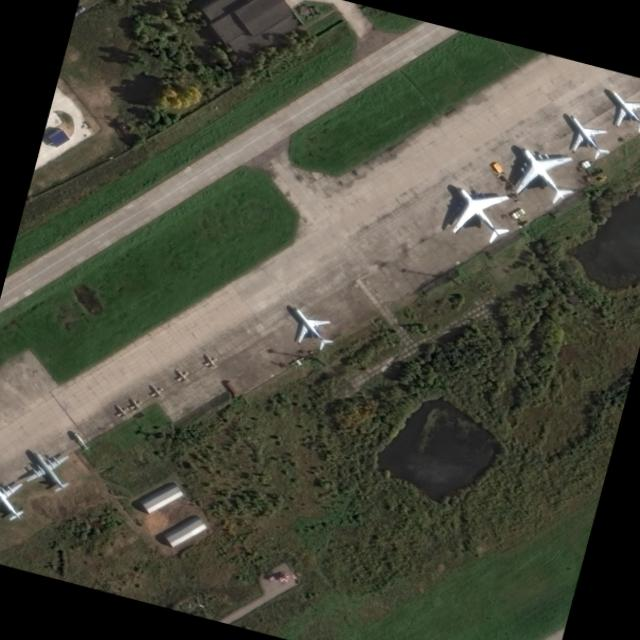plane: (495, 132, 590, 215), (432, 171, 525, 253), (13, 438, 84, 498), (552, 104, 619, 164), (279, 295, 343, 356), (593, 79, 640, 138), (0, 467, 38, 529), (69, 430, 91, 451), (110, 400, 132, 420), (199, 351, 222, 370), (172, 366, 193, 384), (126, 395, 146, 413), (147, 383, 168, 400)
